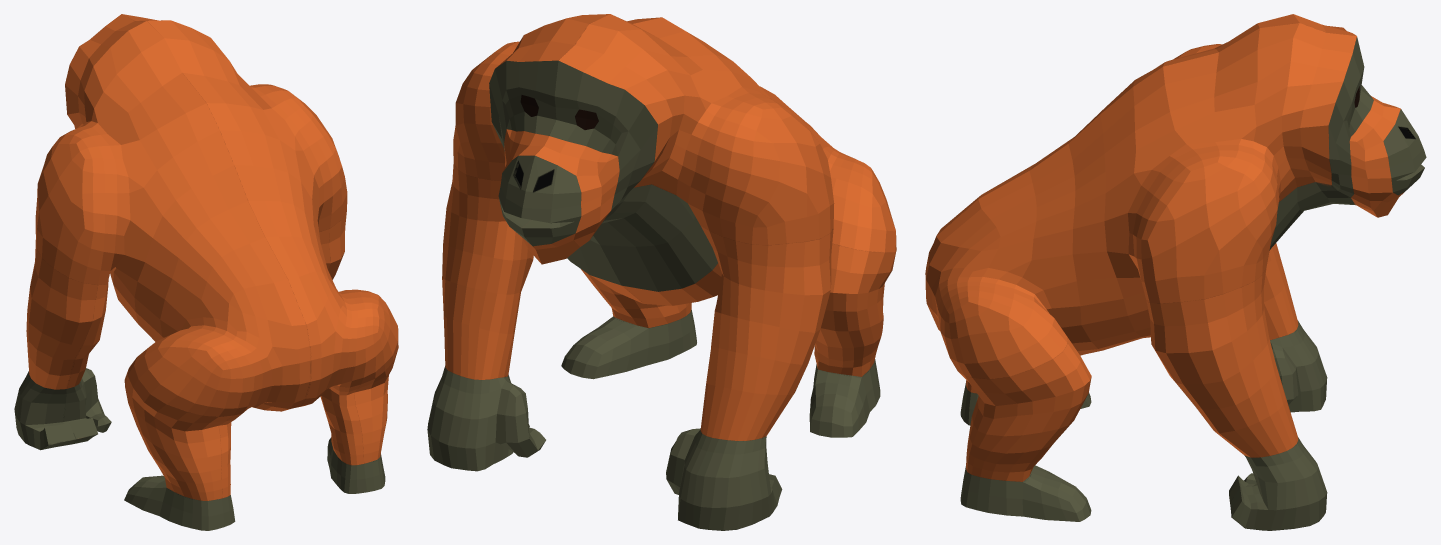
File: Orangutan.fbx
The picture shows the model from 3 angles, left to right: view 1: azimuth 30°, elevation 25°; view 2: azimuth 150°, elevation 25°; view 3: azimuth 270°, elevation 25°; orthographic projection. The views are drawn at different scales.
Visible parts, largest first — view 1: Plane.001; view 2: Plane.001; view 3: Plane.001.
Boxes of the visible parts, <box> form: Plane.001: <box>14,14,398,530</box>; Plane.001: <box>427,14,896,530</box>; Plane.001: <box>925,14,1426,530</box>.
Bounding box in the file's own units: 581 × 689 × 721.
Materials: 1 (1 with a texture image).
